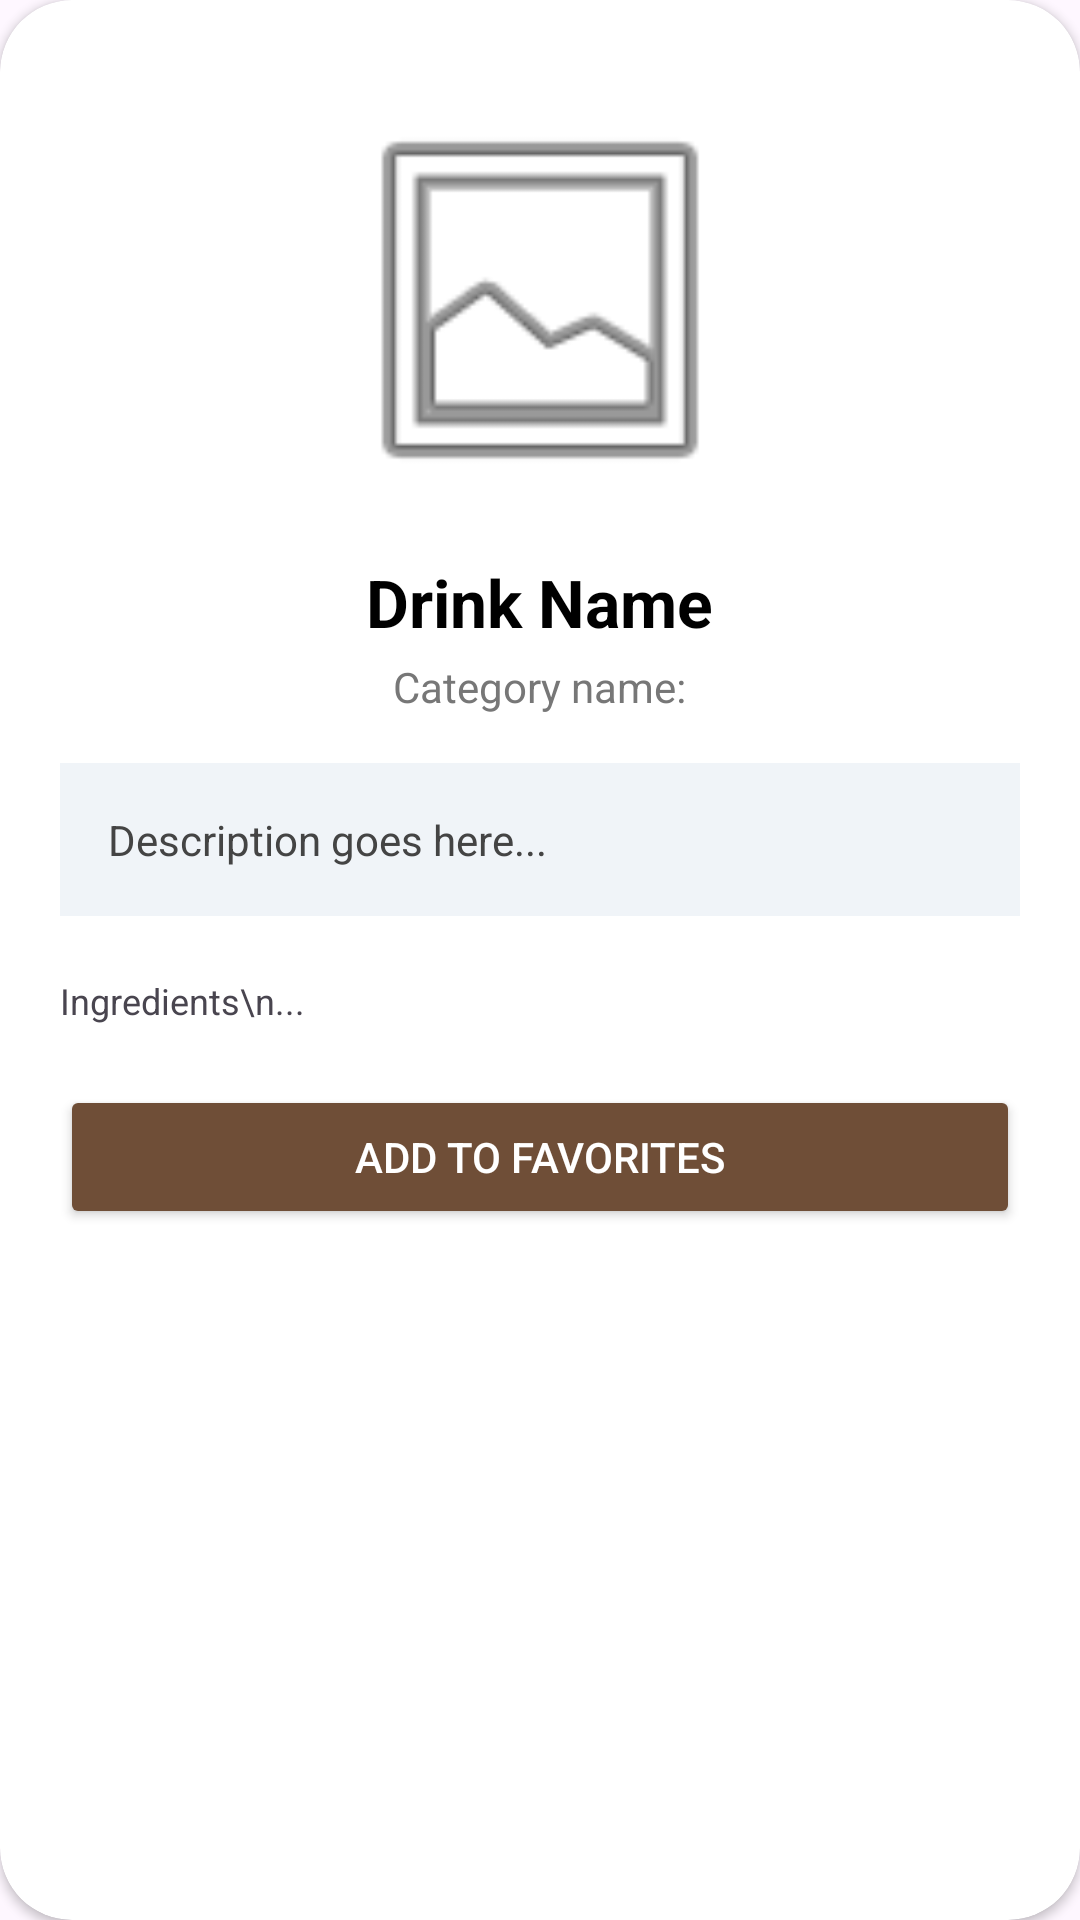

Locate icon controls on the screen. Image size 1080 × 1920, boxes as box(x1, y1, x2, y2).
gallery: box(381, 141, 699, 459)
